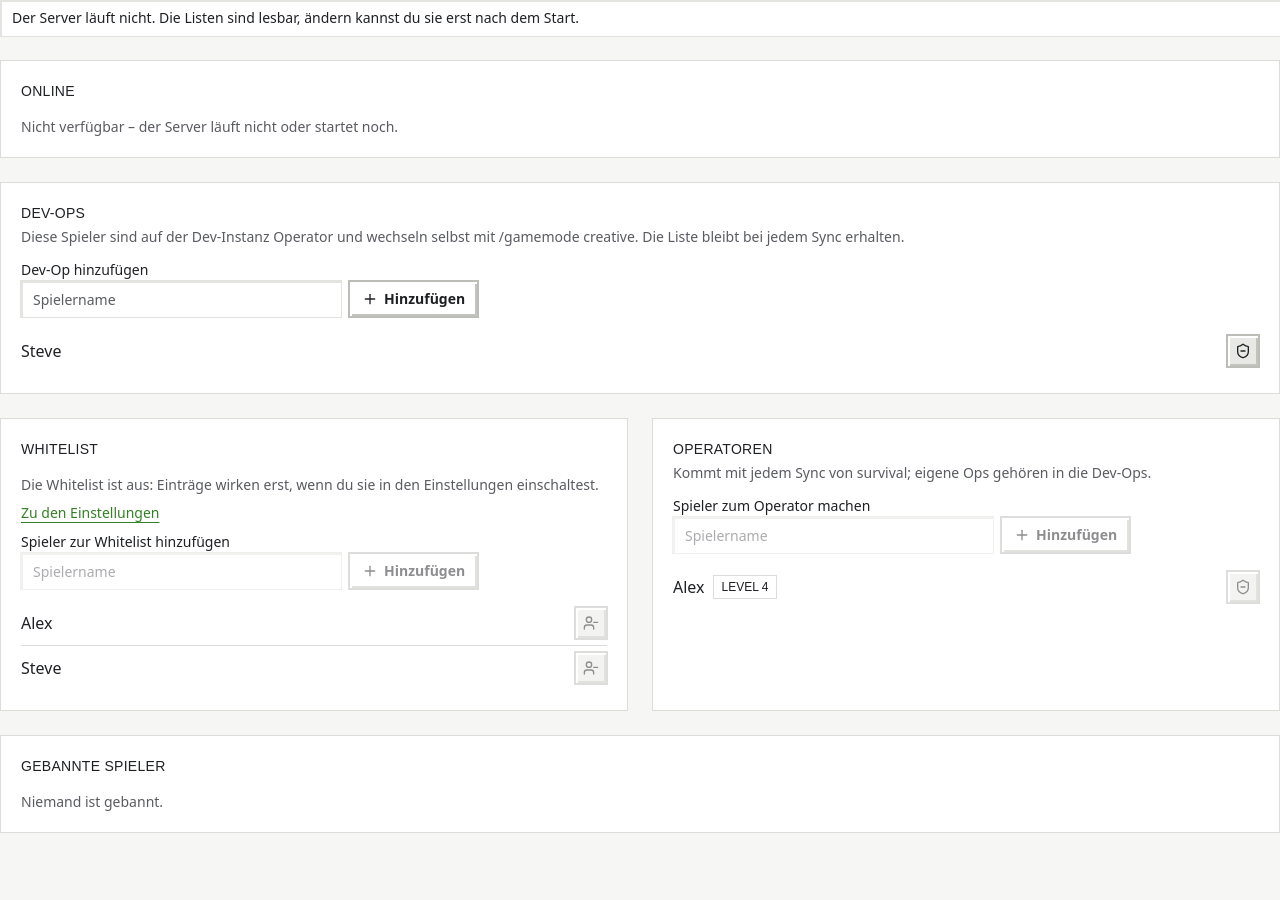
it: DevOpsSection › adds and removes dev ops while the dev sleeps and blocks invalid names
Expected: the text "Steve" below "Dev-Op hinzufügen" is shown, [21,340,61,362]
Step 1. Type "no spaces" into the field labelled "Dev-Op hinzufügen" → (181,299), box [21,281,341,317]
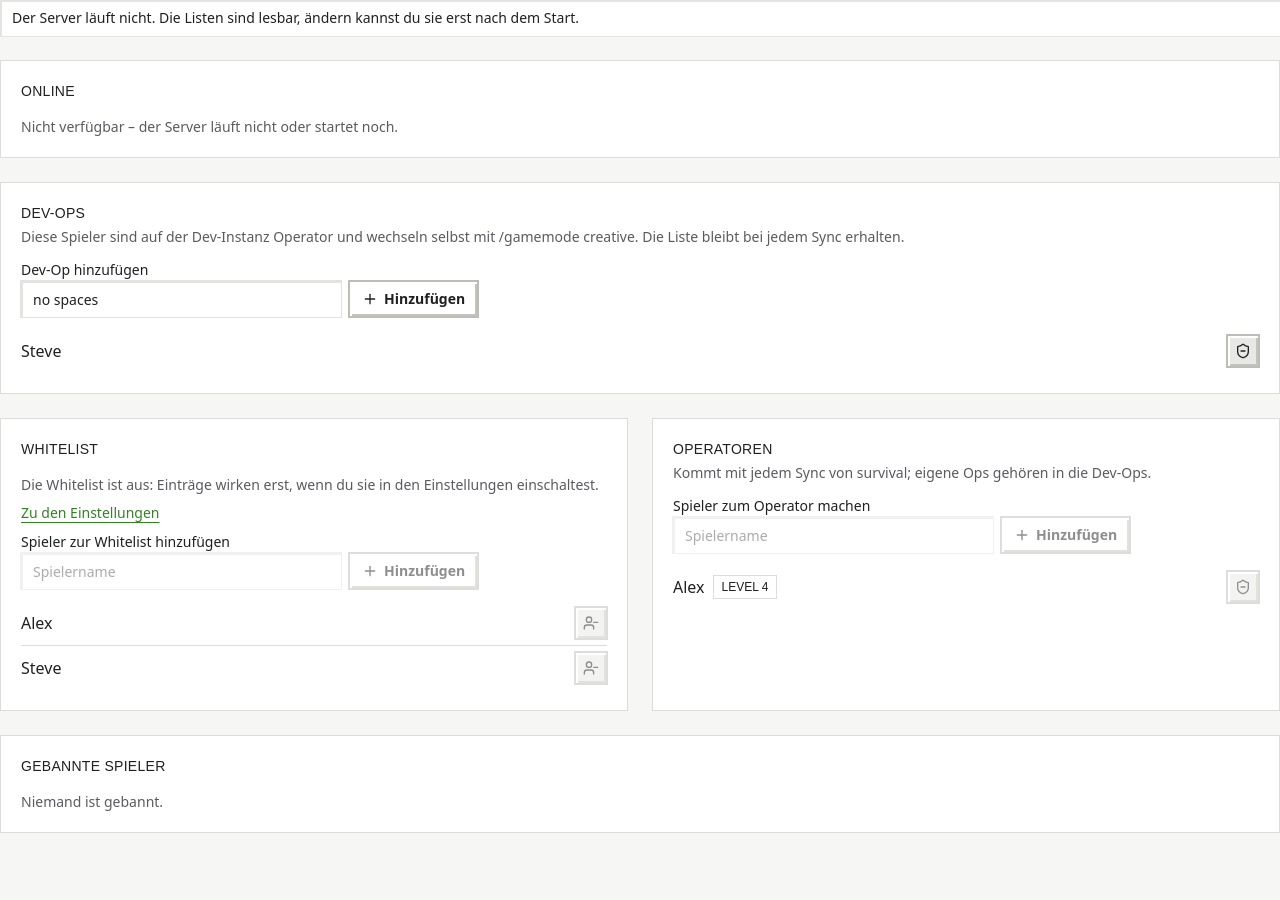
Step 2. Click the button "Hinzufügen" below "Dev-Op hinzufügen" → (414,299), box [349,281,478,317]
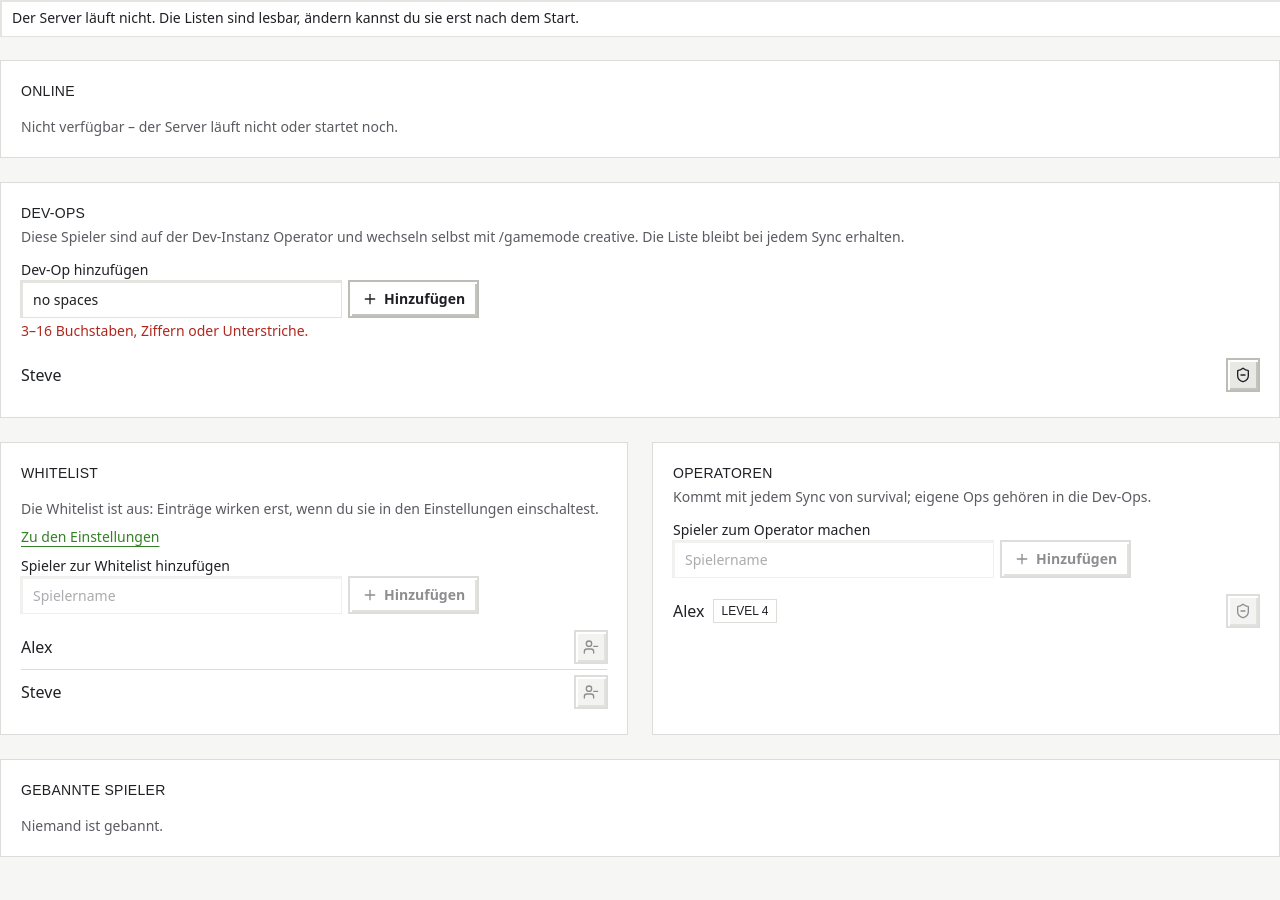
Result: the text "3–16 Buchstaben, Ziffern oder Unterstriche." is shown at [21,321,308,340]
Step 3. Replace the text in the field labelled "Dev-Op hinzufügen" with "Alex" → (181,299), box [21,281,341,317]
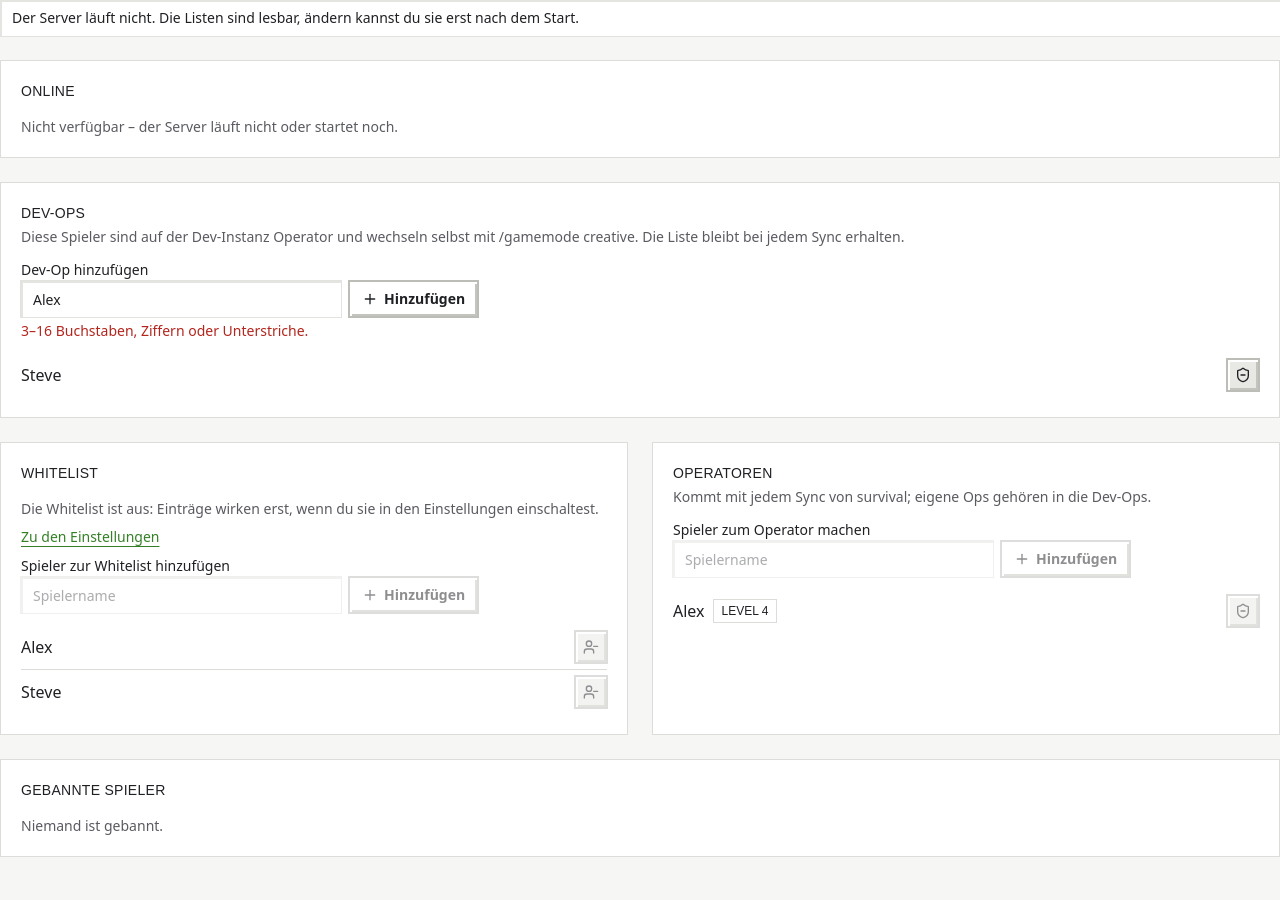
Step 4. Click the button "Hinzufügen" below "Dev-Op hinzufügen" → (414,299), box [349,281,478,317]
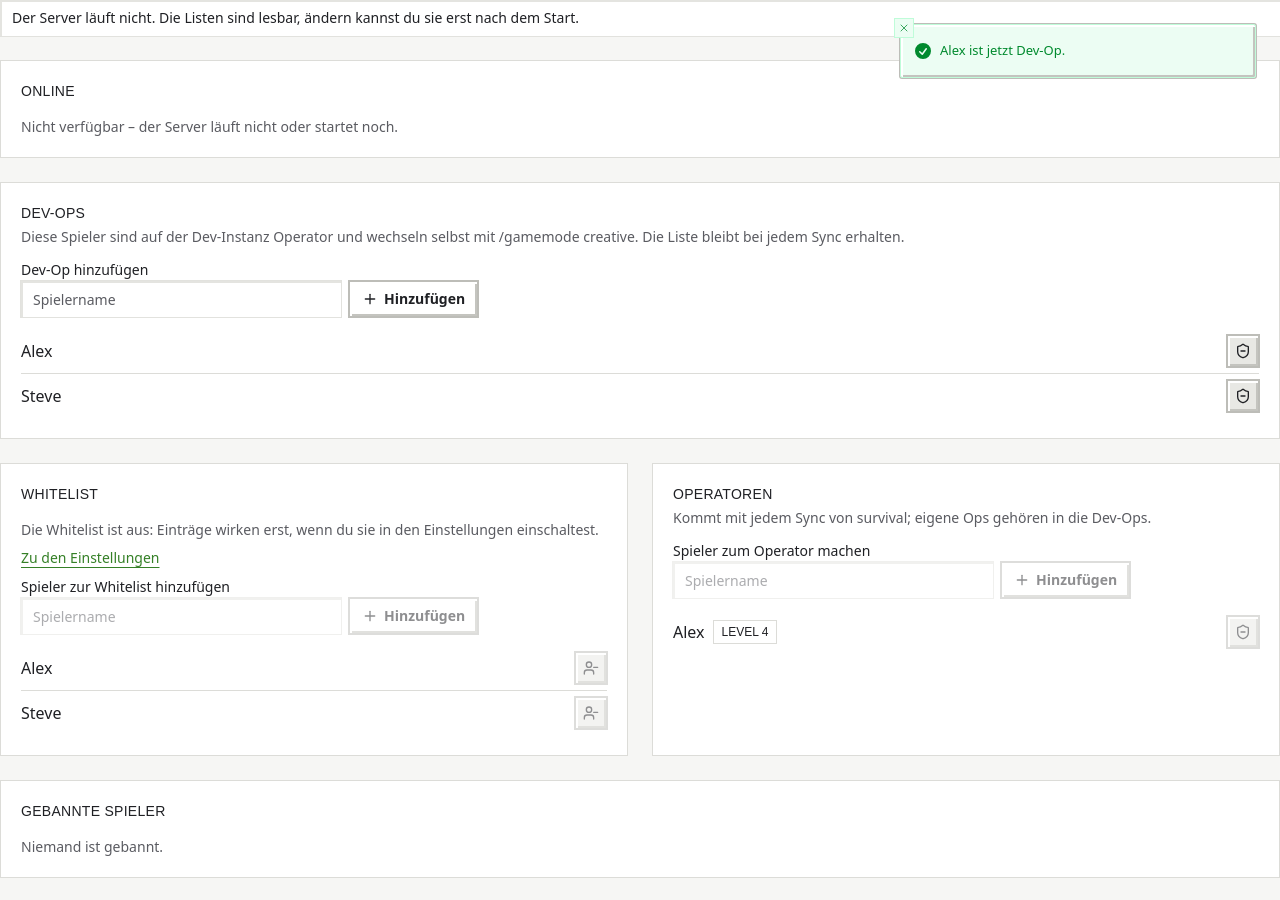
Result: the text "Alex" below "Dev-Op hinzufügen" is shown at [21,340,52,362]
Step 5. Click the button named "Steve aus den Dev-Ops entfernen" → (1243,396), box [1227,380,1259,412]
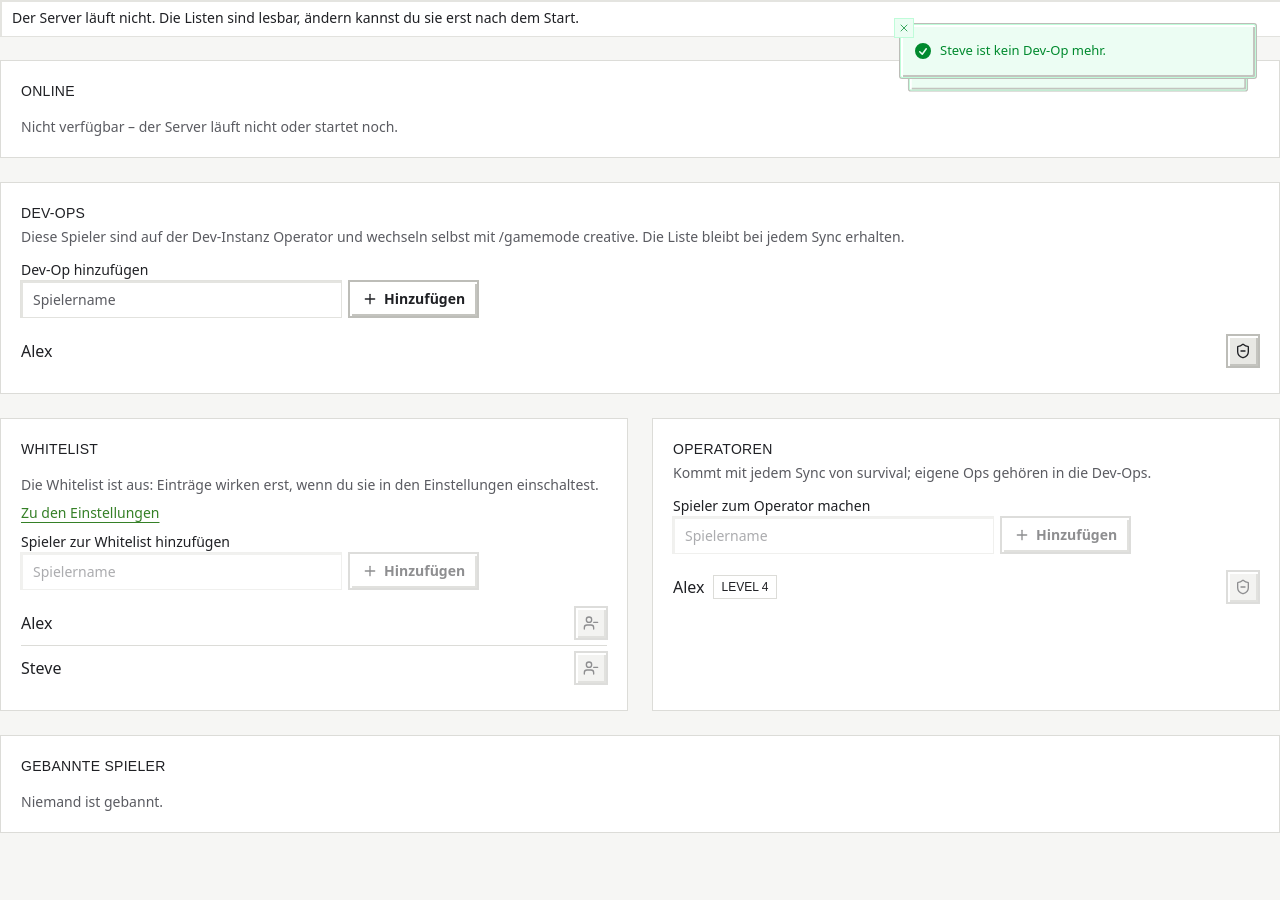
Result: the text "Steve ist kein Dev-Op mehr." is shown at [940,41,1106,60]
